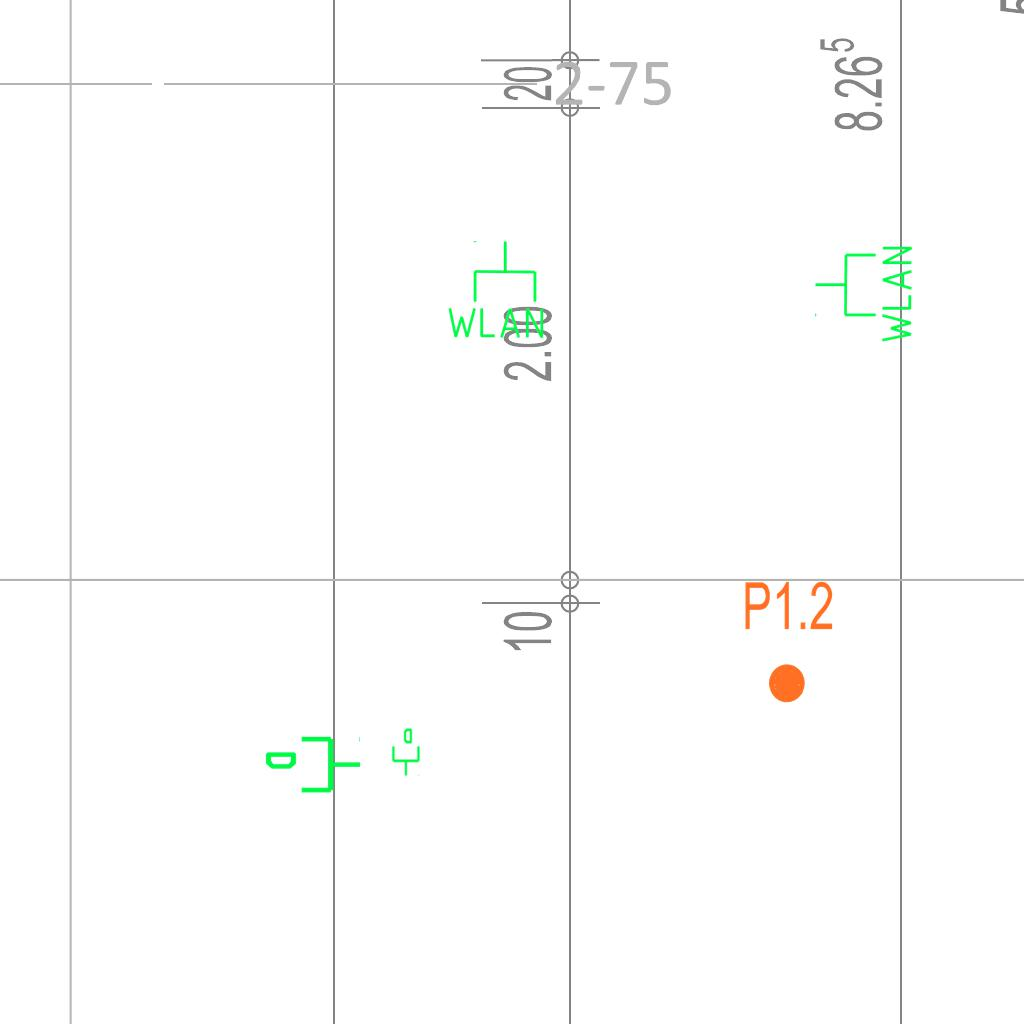Datenanschluss_einfach: (263, 732, 363, 801), (388, 727, 422, 777)
Downlight_LED_Einbauleuchten_Flur: (742, 578, 835, 706)
WLAN: (812, 242, 916, 347), (443, 238, 548, 342)
